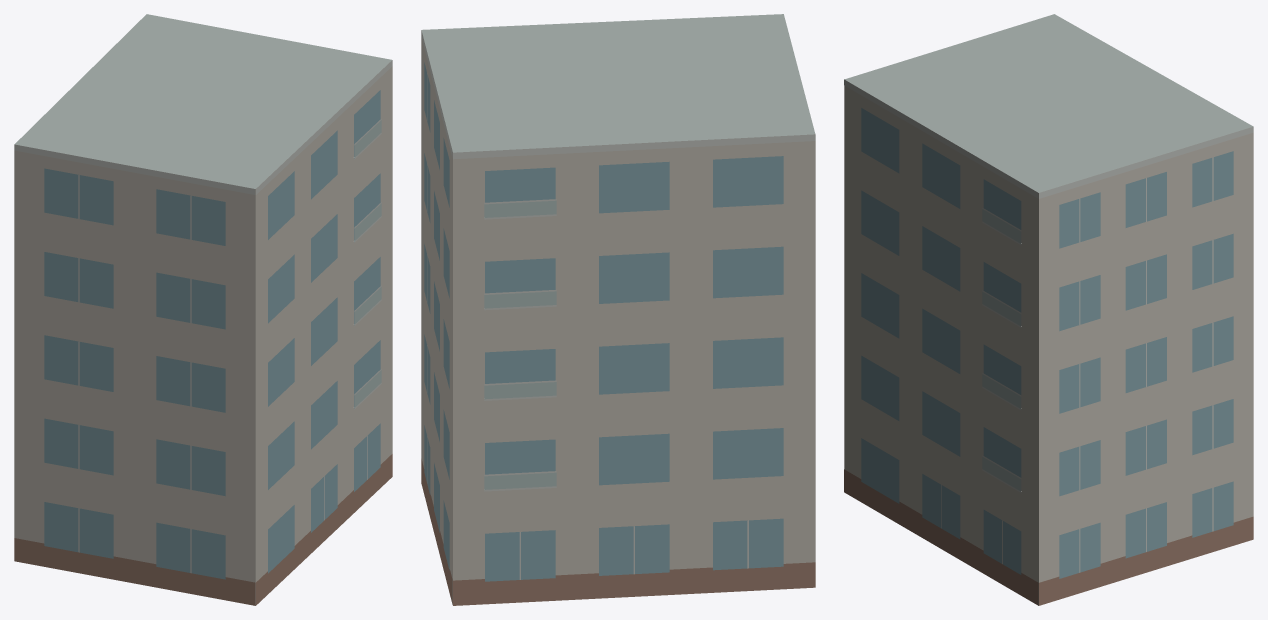
Rendered from survey-upis-32604656.glb.
3 views of the same model, side by side, from view 1: azimuth 30°, elevation 25°; view 2: azimuth 150°, elevation 25°; view 3: azimuth 270°, elevation 25° (orthographic). The views are drawn at different scales.
Parts seen in each view (by area): view 1: survey-upis-32604656.tmp; view 2: survey-upis-32604656.tmp; view 3: survey-upis-32604656.tmp.
Part boxes in pixels (left/top/right/bottom): survey-upis-32604656.tmp: left=14, top=14, right=392, bottom=605; survey-upis-32604656.tmp: left=421, top=14, right=815, bottom=605; survey-upis-32604656.tmp: left=844, top=14, right=1253, bottom=605.
Bounding box in the file's own units: 15.63 × 16.8 × 15.11.
